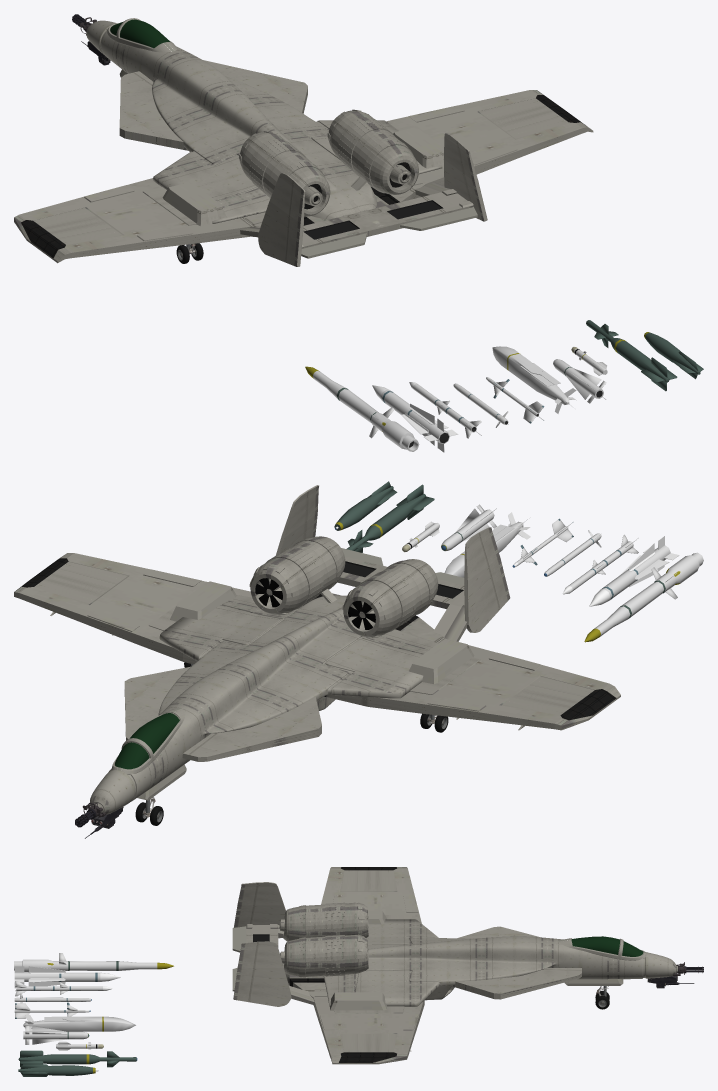
Rendered from airplane_1.fbx.
The picture shows the model from 3 angles, top to bottom: view 1: azimuth 30°, elevation 25°; view 2: azimuth 150°, elevation 25°; view 3: azimuth 270°, elevation 25°; orthographic projection. The views are drawn at different scales.
Parts seen in each view (by area): view 1: 16013_Fighter_Jet-USA_v1.081, engine, Cylinder.002, KS-172 Novator, AGM-154 JSOW, AIM-54 Phoenix, GBU-24 Paveway, AGM65 Maverick, Mk83 bomb, Cube.010, Cube.011, AIM-120 Amraam; view 2: 16013_Fighter_Jet-USA_v1.081, engine, Cylinder.002, KS-172 Novator, AIM-54 Phoenix, GBU-24 Paveway, AGM-154 JSOW, Mk83 bomb, AGM65 Maverick, AIM-120 Amraam, AIM-9 Sidewinder; view 3: 16013_Fighter_Jet-USA_v1.081, engine, Cylinder.002, AGM-154 JSOW, KS-172 Novator, AIM-54 Phoenix, GBU-24 Paveway, Mk83 bomb, AGM65 Maverick, AIM-120 Amraam, AIM-9 Sidewinder, missle_heatsig_1.
Boxes of the visible parts, box(x1,y1,x2,y2) form: 16013_Fighter_Jet-USA_v1.081: box(14, 17, 593, 266); engine: box(327, 109, 418, 194); Cylinder.002: box(239, 131, 330, 216); KS-172 Novator: box(305, 366, 419, 451); AGM-154 JSOW: box(492, 346, 576, 413); AIM-54 Phoenix: box(372, 385, 458, 452); GBU-24 Paveway: box(586, 320, 677, 391); AGM65 Maverick: box(553, 359, 606, 403); Mk83 bomb: box(644, 332, 703, 379); Cube.010: box(400, 207, 477, 230); Cube.011: box(301, 233, 366, 258); AIM-120 Amraam: box(409, 382, 481, 438); 16013_Fighter_Jet-USA_v1.081: box(14, 485, 620, 838); engine: box(249, 536, 345, 615); Cylinder.002: box(342, 559, 438, 637); KS-172 Novator: box(584, 552, 703, 642); AIM-54 Phoenix: box(589, 536, 679, 606); GBU-24 Paveway: box(346, 484, 434, 552); AGM-154 JSOW: box(444, 512, 530, 577); Mk83 bomb: box(334, 481, 397, 530); AGM65 Maverick: box(441, 504, 496, 551); AIM-120 Amraam: box(563, 534, 638, 594); AIM-9 Sidewinder: box(512, 518, 573, 567); 16013_Fighter_Jet-USA_v1.081: box(233, 867, 694, 1064); engine: box(280, 934, 368, 977); Cylinder.002: box(279, 902, 368, 941); AGM-154 JSOW: box(23, 1015, 135, 1031); KS-172 Novator: box(14, 953, 173, 972); AIM-54 Phoenix: box(14, 966, 120, 988); GBU-24 Paveway: box(18, 1050, 137, 1067); Mk83 bomb: box(18, 1064, 98, 1076); AGM65 Maverick: box(23, 1026, 89, 1044); AIM-120 Amraam: box(15, 981, 112, 996); AIM-9 Sidewinder: box(14, 1002, 90, 1018); missle_heatsig_1: box(14, 992, 91, 1003).
Size of the model in its own units: 1720 by 459 by 2585.
